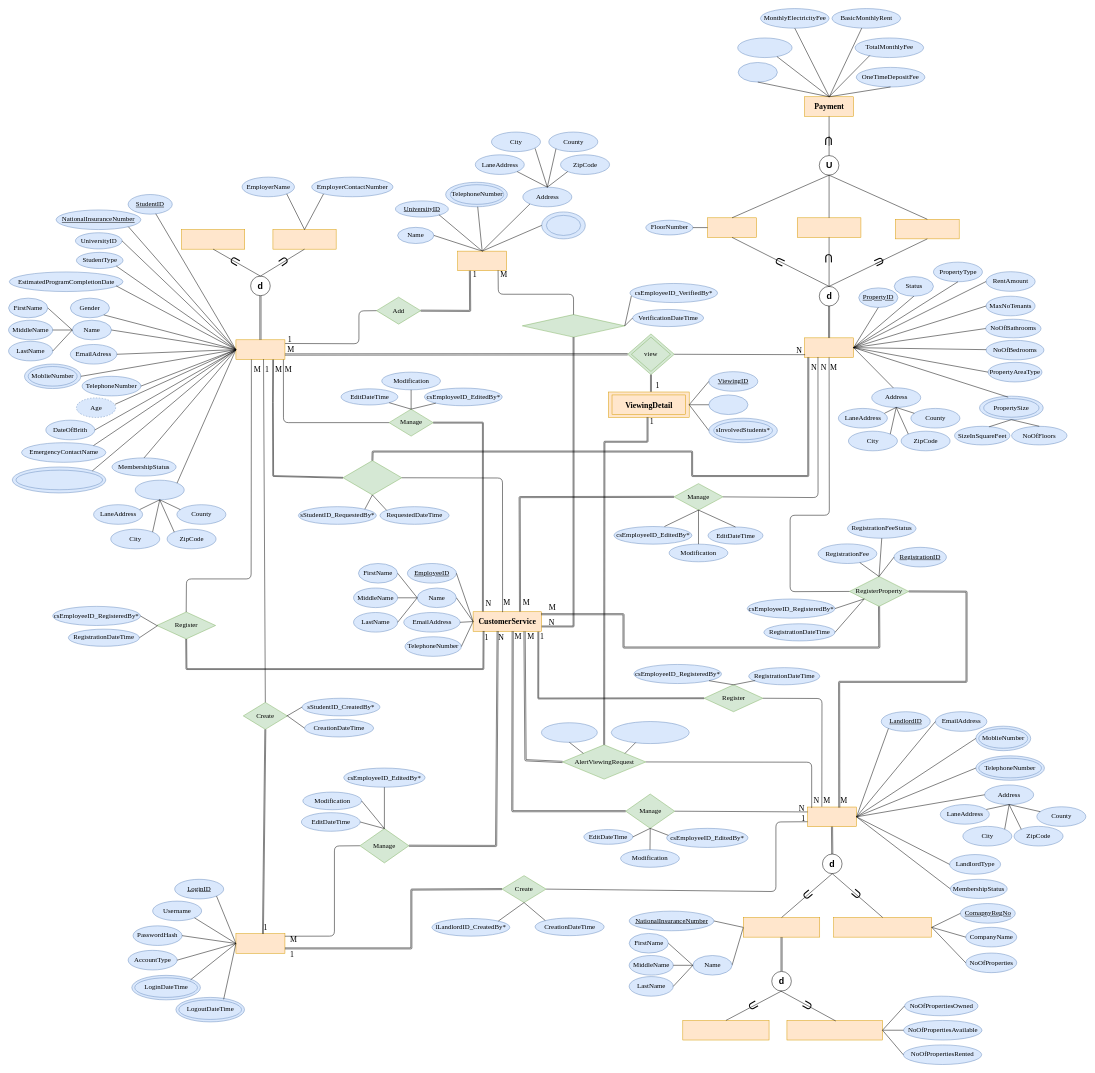
Some shapes in this 1095 by 1073 pixel diagram are drawn without their labels. Each missing label, with the centre of its shape:
"AlertDateTime" belongs at [569,732].
"csEmployeeID_AlerterBy*" belongs at [650,732].
"CurrentAddress" belongs at [159,490].
"Date" belongs at [728,404].
"DetachedHouse" belongs at [927,229].
"Email" belongs at [563,225].
"EmergencyContactNumber" belongs at [59,480].
"Flat" belongs at [732,227].
"Landlord" belongs at [832,817].
"LimitedCompanyLandlord" belongs at [882,927].
"Login" belongs at [260,943].
"MonthlyWaterFee" belongs at [764,47].
"MultiplePropertyLandlord" belongs at [834,1030].
"PaymentID" belongs at [757,72].
"Postgraduate" belongs at [304,239].
"PrivateLandlord" belongs at [781,927].
"Property" belongs at [829,347].
"RequestViewing" belongs at [372,477].
"SinglePropertyLandlord" belongs at [725,1030].
"Student" belongs at [260,349].
"TerracedHouse" belongs at [829,227].
"Undergraduate" belongs at [213,239].
"University" belongs at [482,261].
"VerifySudentEnrollment" belongs at [573,325].
